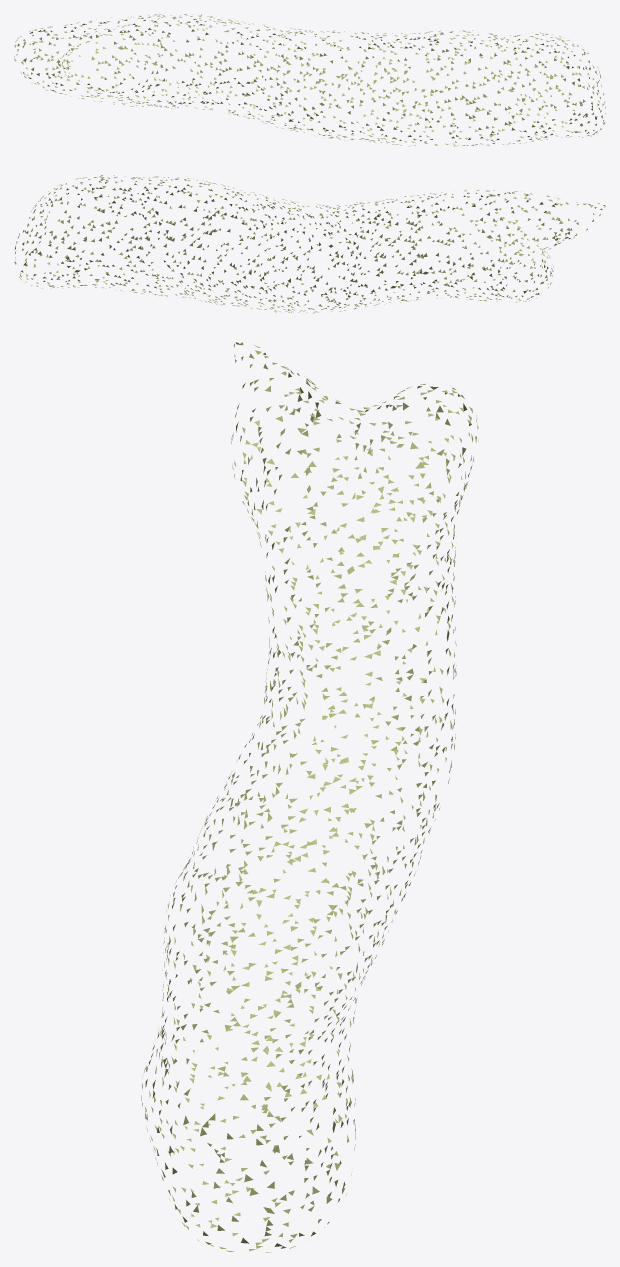
Rendered from morph_010.glb.
The picture shows the model from 3 angles, top to bottom: view 1: azimuth 30°, elevation 25°; view 2: azimuth 150°, elevation 25°; view 3: azimuth 270°, elevation 25°; orthographic projection. The views are drawn at different scales.
Size of the model in its own units: 114 by 40.84 by 30.78.
